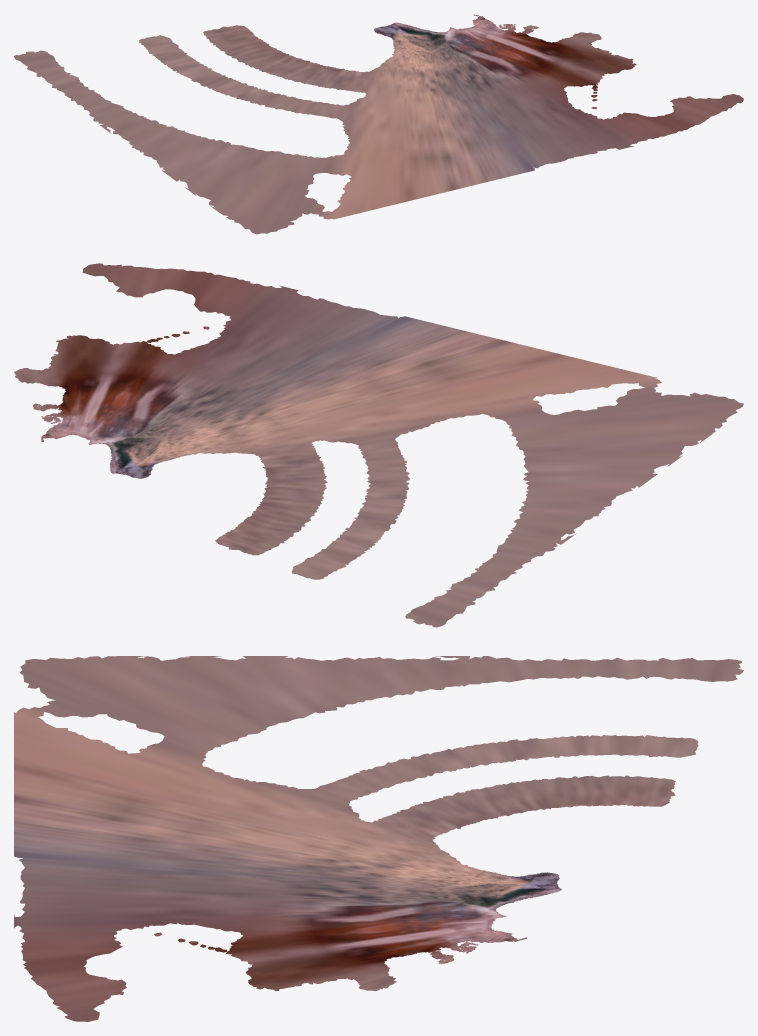
The model's file is water.glb.
The picture shows the model from 3 angles, top to bottom: view 1: azimuth 30°, elevation 25°; view 2: azimuth 150°, elevation 25°; view 3: azimuth 270°, elevation 25°; orthographic projection. The views are drawn at different scales.
Visible parts, largest first — view 1: water; view 2: water; view 3: water.
Boxes of the visible parts, x1,y1,x2,y2 form: water: (14,14,743,234); water: (14,263,743,627); water: (14,656,743,1021).
Bounding box in the file's own units: 290 × 6.39e-14 × 244.
Materials: 1 (1 with a texture image).
